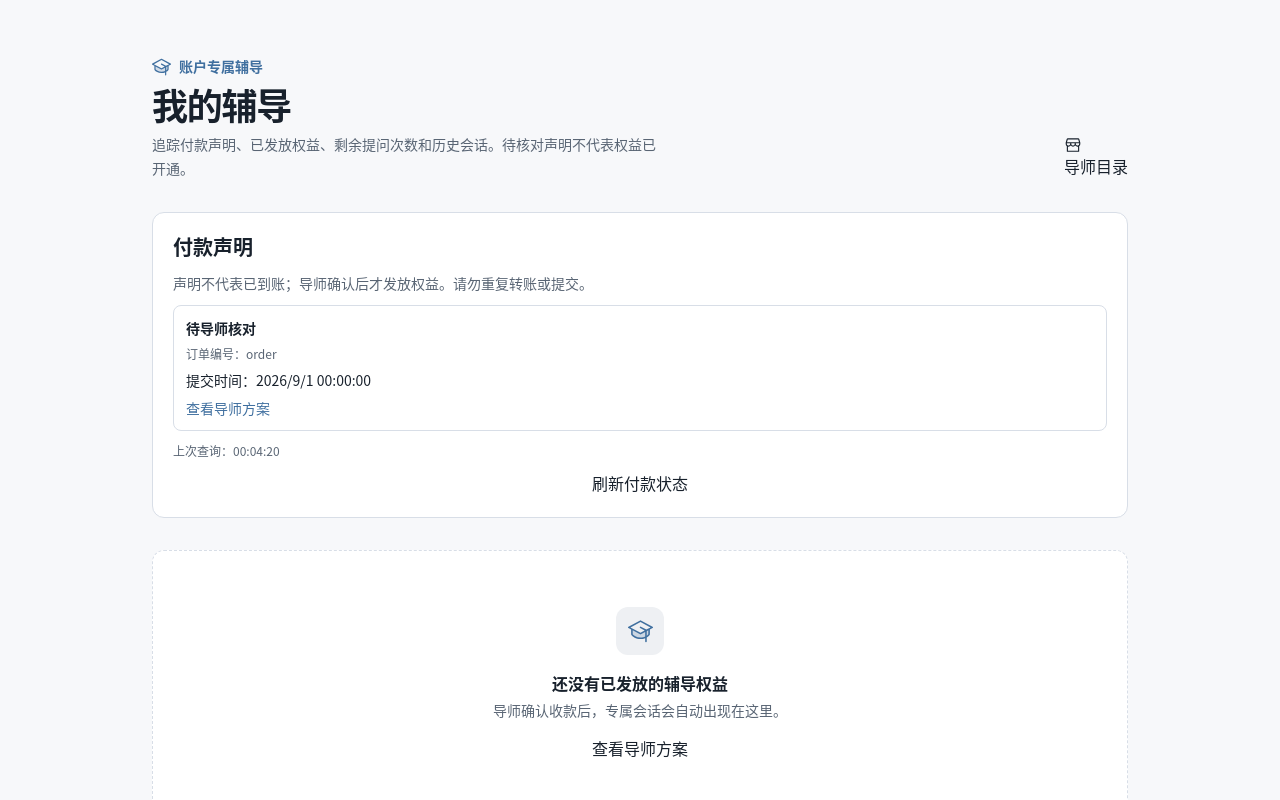
mentor payment reliability › reloads server-owned rights when a pending declaration becomes confirmed
Expected: the text "待导师核对" is shown, [186,318,256,338]
Click the button "刷新付款状态" at (640, 484), box [173,471,1107,497]
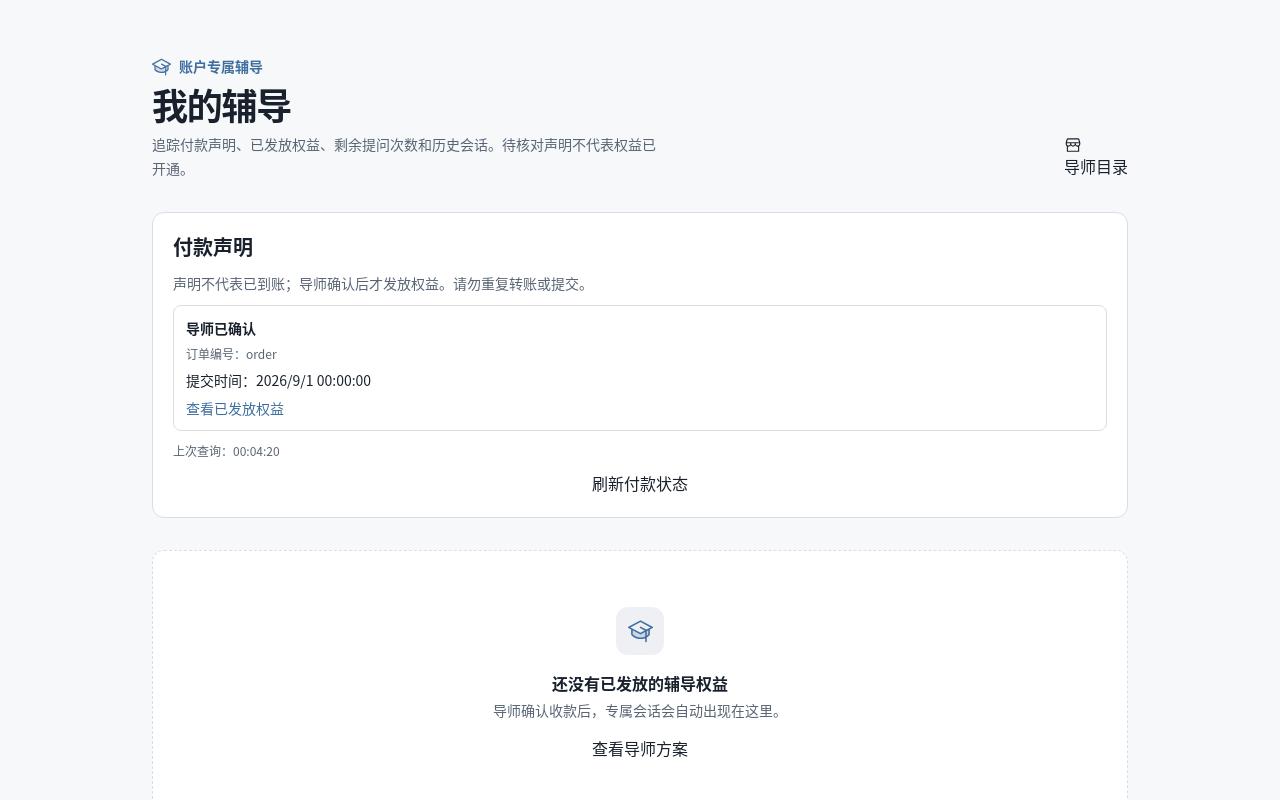
Expected: the text "导师已确认" is shown, [186,318,256,338]
